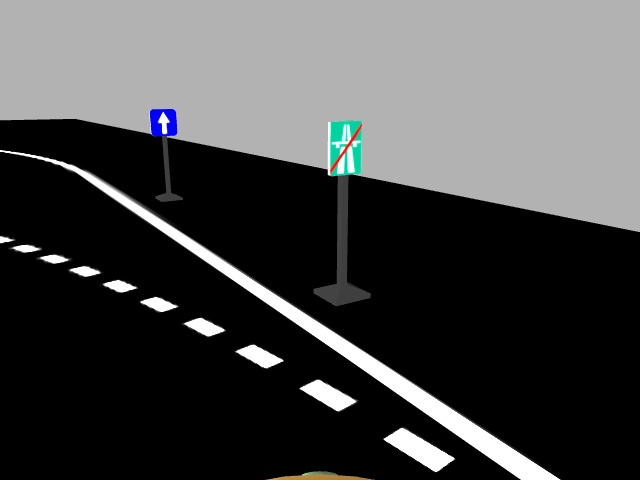HighwayExit: (327, 119, 363, 173)
OneWay: (149, 108, 179, 136)
